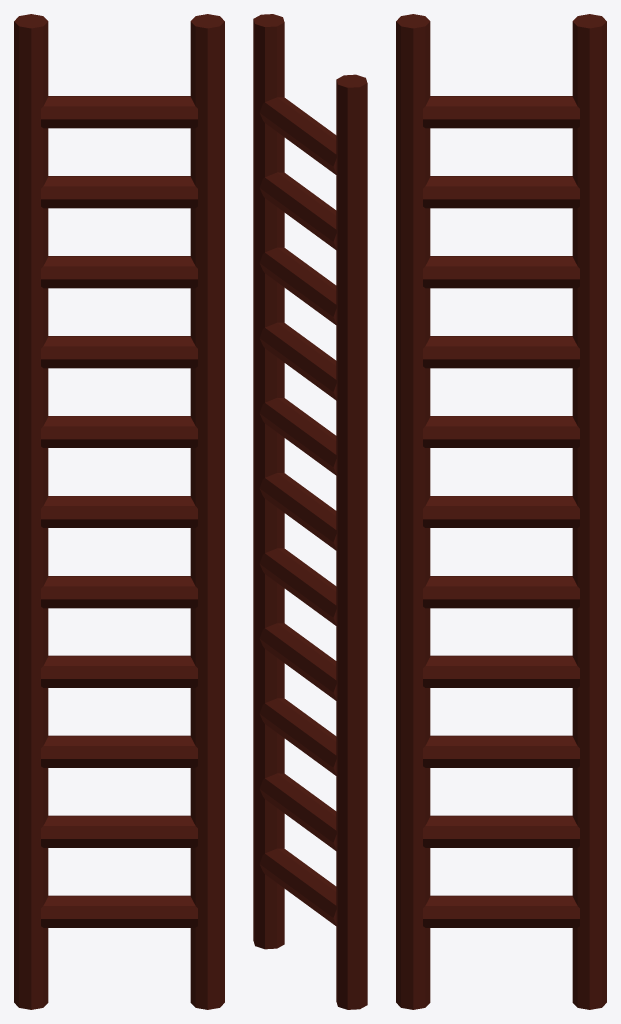
File: SplitLadder.fbx
3 views of the same model, side by side, from view 1: azimuth 90°, elevation 25°; view 2: azimuth 210°, elevation 25°; view 3: azimuth 270°, elevation 25° (orthographic). The views are drawn at different scales.
Visible parts, largest first — view 1: Cylinder, Cylinder.001, Cylinder.014, Cylinder.013, Cylinder.011, Cylinder.009, Cylinder.010, Cylinder.003, Cylinder.005, Cylinder.006, Cylinder.007, Cylinder.008 (+3 smaller); view 2: Cylinder, Cylinder.013, Cylinder.001, Cylinder.014, Cylinder.003, Cylinder.006, Cylinder.010, Cylinder.005, Cylinder.007, Cylinder.008, Cylinder.009, Cylinder.011 (+3 smaller); view 3: Cylinder, Cylinder.001, Cylinder.014, Cylinder.013, Cylinder.011, Cylinder.009, Cylinder.010, Cylinder.003, Cylinder.005, Cylinder.006, Cylinder.007, Cylinder.008 (+3 smaller).
Part boxes in pixels (bbox=[...]): Cylinder: bbox=[14, 14, 48, 555]; Cylinder.001: bbox=[190, 14, 224, 554]; Cylinder.014: bbox=[190, 547, 224, 1009]; Cylinder.013: bbox=[14, 549, 48, 1009]; Cylinder.011: bbox=[41, 336, 197, 368]; Cylinder.009: bbox=[41, 176, 197, 208]; Cylinder.010: bbox=[41, 256, 197, 288]; Cylinder.003: bbox=[41, 576, 197, 608]; Cylinder.005: bbox=[41, 735, 197, 767]; Cylinder.006: bbox=[41, 815, 197, 847]; Cylinder.007: bbox=[41, 895, 197, 927]; Cylinder.008: bbox=[41, 96, 197, 128]; Cylinder: bbox=[336, 74, 367, 583]; Cylinder.013: bbox=[336, 576, 367, 1009]; Cylinder.001: bbox=[253, 14, 284, 521]; Cylinder.014: bbox=[253, 513, 284, 949]; Cylinder.003: bbox=[259, 548, 336, 625]; Cylinder.006: bbox=[259, 773, 336, 850]; Cylinder.010: bbox=[259, 247, 336, 324]; Cylinder.005: bbox=[259, 698, 336, 775]; Cylinder.007: bbox=[259, 848, 336, 925]; Cylinder.008: bbox=[259, 97, 336, 174]; Cylinder.009: bbox=[259, 172, 336, 249]; Cylinder.011: bbox=[259, 322, 336, 400]; Cylinder: bbox=[572, 14, 606, 555]; Cylinder.001: bbox=[396, 14, 430, 554]; Cylinder.014: bbox=[396, 547, 430, 1009]; Cylinder.013: bbox=[572, 549, 606, 1009]; Cylinder.011: bbox=[423, 336, 579, 368]; Cylinder.009: bbox=[423, 176, 579, 208]; Cylinder.010: bbox=[423, 256, 579, 288]; Cylinder.003: bbox=[423, 576, 579, 608]; Cylinder.005: bbox=[423, 735, 579, 767]; Cylinder.006: bbox=[423, 815, 579, 847]; Cylinder.007: bbox=[423, 895, 579, 927]; Cylinder.008: bbox=[423, 96, 579, 128].
Bounding box in the file's own units: 38.9 × 1228 × 239.
